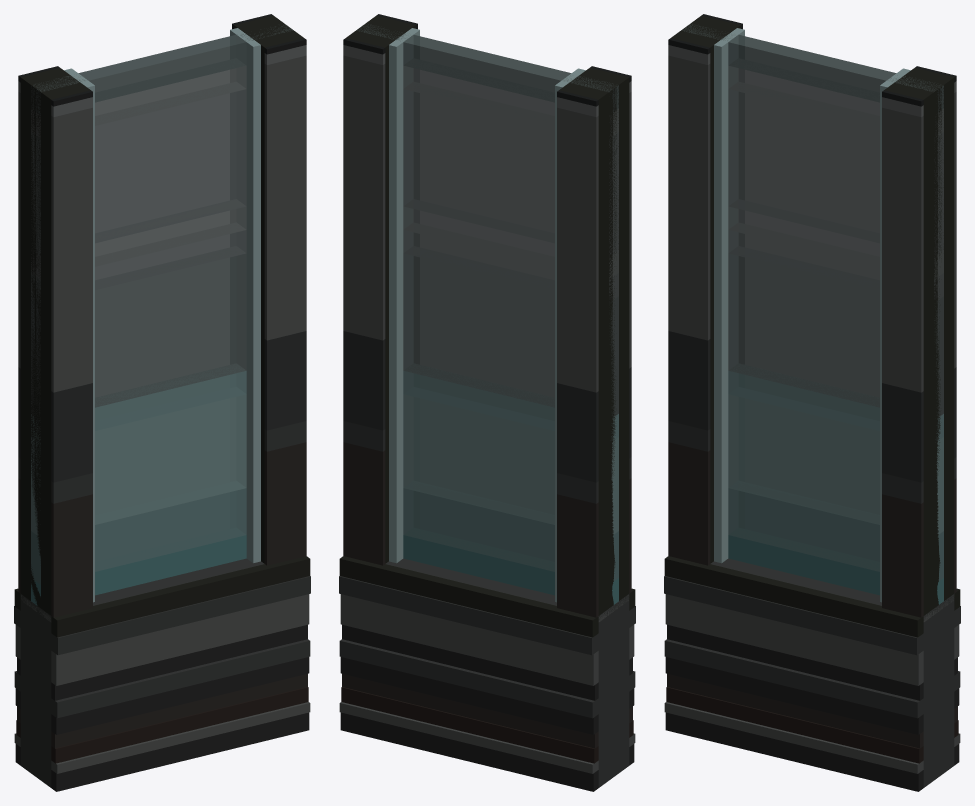
Rendered from CMU3DSPPGreyWindow.glb.
The picture shows the model from 3 angles, left to right: view 1: azimuth 30°, elevation 25°; view 2: azimuth 150°, elevation 25°; view 3: azimuth 330°, elevation 25°; orthographic projection.
Visible parts, largest first — view 1: middle pane, upper pane, west full-height end frame, lower blue pane, east upper steel -1, west upper steel -1, east inner edge, broad steel fascia front, lower blue edge, lower sill core, top glass edge, top rubber gasket front (+22 smaller); view 2: upper pane, middle pane, west full-height end frame, lower blue pane, east upper steel 1, west upper steel 1, east inner edge, broad steel fascia back, lower blue edge, lower sill core, top glass edge, top rubber gasket back (+22 smaller); view 3: upper pane, middle pane, east full-height end frame, lower blue pane, west upper steel -1, east upper steel -1, west inner edge, broad steel fascia front, lower blue edge, lower sill core, top glass edge, top rubber gasket front (+22 smaller).
Part boxes in pixels (bbox=[...]): middle pane: bbox=[31, 248, 246, 415]; upper pane: bbox=[31, 89, 246, 255]; west full-height end frame: bbox=[20, 68, 90, 615]; lower blue pane: bbox=[31, 394, 246, 535]; east upper steel -1: bbox=[264, 55, 306, 340]; west upper steel -1: bbox=[51, 107, 92, 392]; east inner edge: bbox=[230, 28, 260, 563]; broad steel fascia front: bbox=[51, 594, 309, 685]; lower blue edge: bbox=[31, 488, 246, 584]; lower sill core: bbox=[20, 558, 264, 787]; top glass edge: bbox=[31, 25, 293, 115]; top rubber gasket front: bbox=[51, 556, 310, 637]; upper pane: bbox=[403, 85, 618, 254]; middle pane: bbox=[403, 253, 618, 417]; west full-height end frame: bbox=[559, 68, 629, 615]; lower blue pane: bbox=[403, 394, 618, 534]; east upper steel 1: bbox=[343, 55, 385, 340]; west upper steel 1: bbox=[557, 107, 598, 392]; east inner edge: bbox=[389, 28, 419, 563]; broad steel fascia back: bbox=[340, 594, 598, 685]; lower blue edge: bbox=[403, 488, 618, 580]; lower sill core: bbox=[385, 558, 629, 787]; top glass edge: bbox=[356, 24, 618, 112]; top rubber gasket back: bbox=[339, 556, 598, 637]; upper pane: bbox=[728, 85, 943, 254]; middle pane: bbox=[728, 253, 943, 416]; east full-height end frame: bbox=[884, 68, 954, 615]; lower blue pane: bbox=[728, 394, 943, 534]; west upper steel -1: bbox=[668, 55, 710, 340]; east upper steel -1: bbox=[882, 107, 923, 392]; west inner edge: bbox=[714, 28, 744, 563]; broad steel fascia front: bbox=[665, 594, 923, 685]; lower blue edge: bbox=[728, 488, 943, 580]; lower sill core: bbox=[710, 558, 954, 787]; top glass edge: bbox=[681, 24, 943, 112]; top rubber gasket front: bbox=[664, 556, 923, 637].
Size of the model in its own units: 1 by 2.6 by 0.3.
